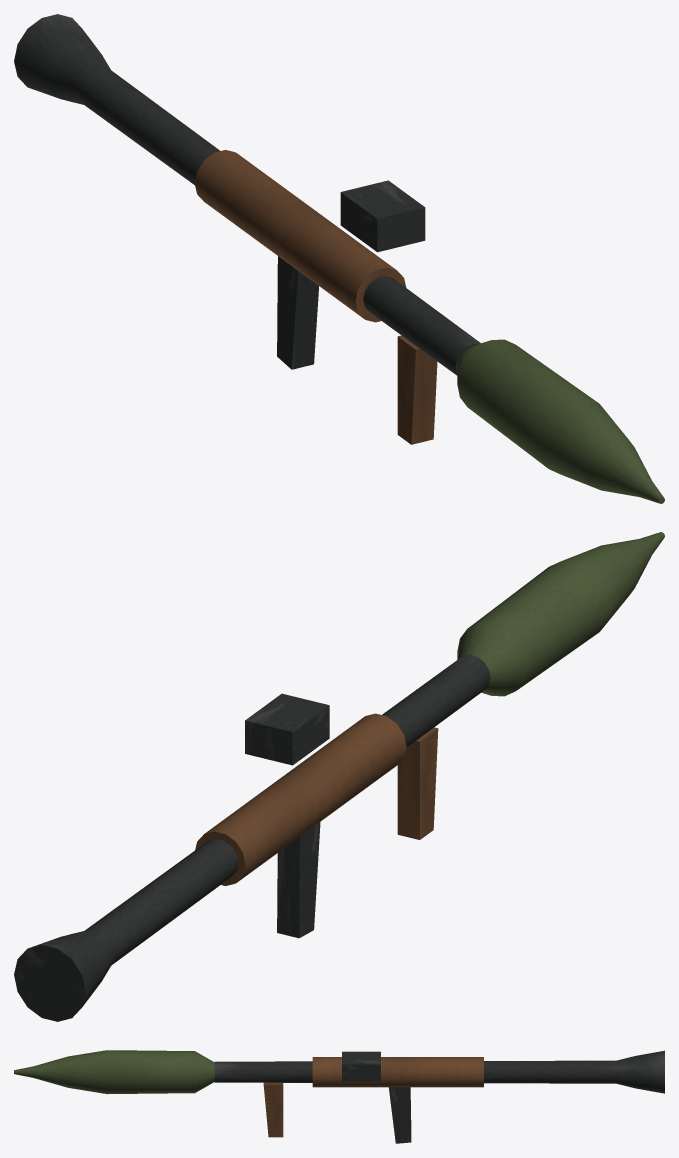
File: weapon-rpg7.glb
3 renders of one model, top to bottom at view 1: azimuth 30°, elevation 25°; view 2: azimuth 150°, elevation 25°; view 3: azimuth 270°, elevation 25°, orthographic. The views are drawn at different scales.
Visible parts, largest first — view 1: weapon-rpg7; view 2: weapon-rpg7; view 3: weapon-rpg7.
Part boxes in pixels (left/top/right/bottom): weapon-rpg7: left=14, top=14, right=664, bottom=503; weapon-rpg7: left=14, top=532, right=664, bottom=1021; weapon-rpg7: left=14, top=1050, right=664, bottom=1143.
Bounding box in the file's own units: 0.135 × 0.215 × 1.33.
1 material, 1 textured.
